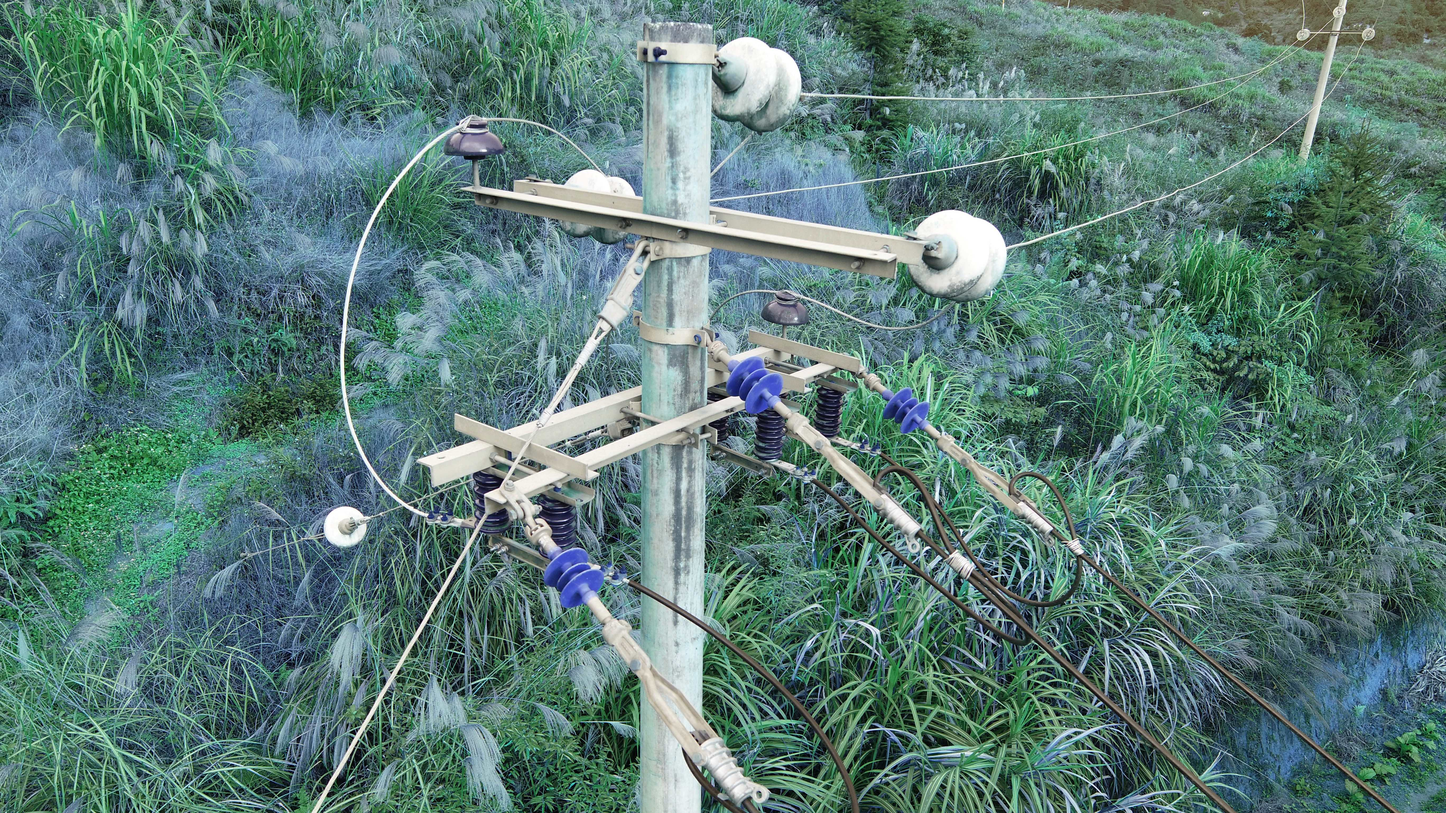severe_soiling_no_discharge_whole: (903, 204, 1010, 305), (711, 34, 804, 135)
